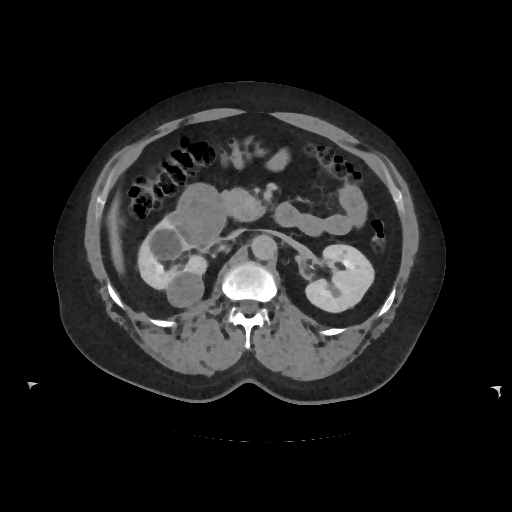Lesion: (170, 179, 228, 249)
